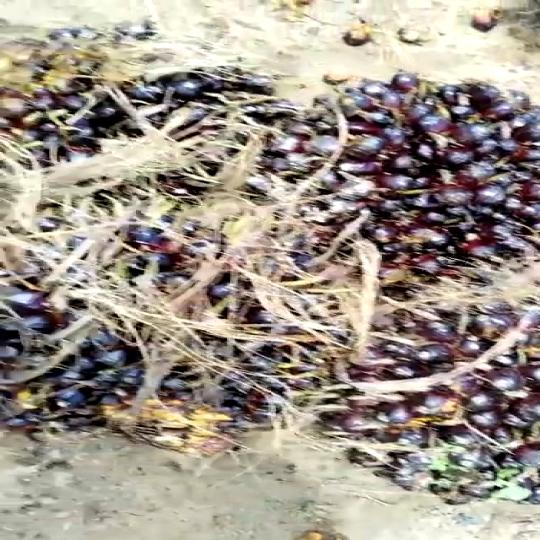mentah: (1, 33, 540, 519)
